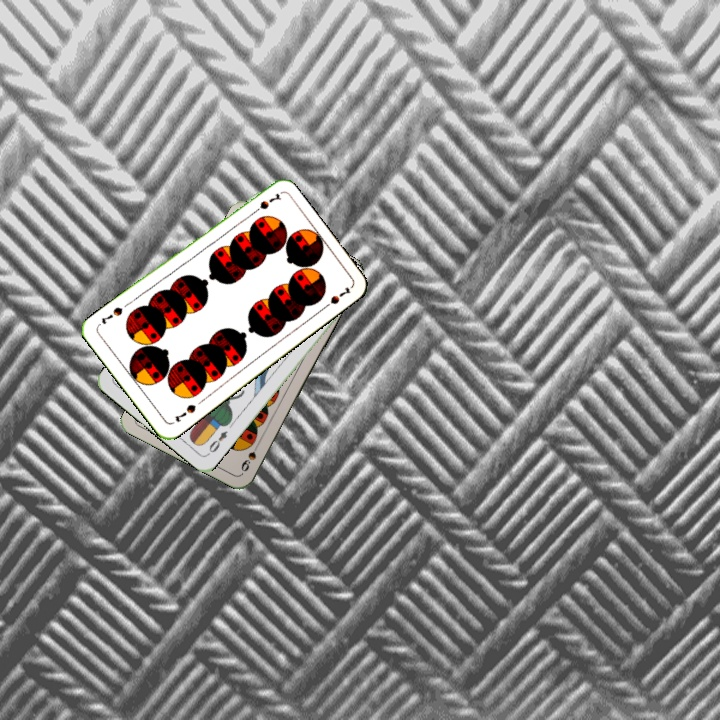EO: (204, 427, 230, 458)
S7: (246, 189, 283, 218), (170, 400, 199, 425)
S9: (237, 437, 263, 474)
